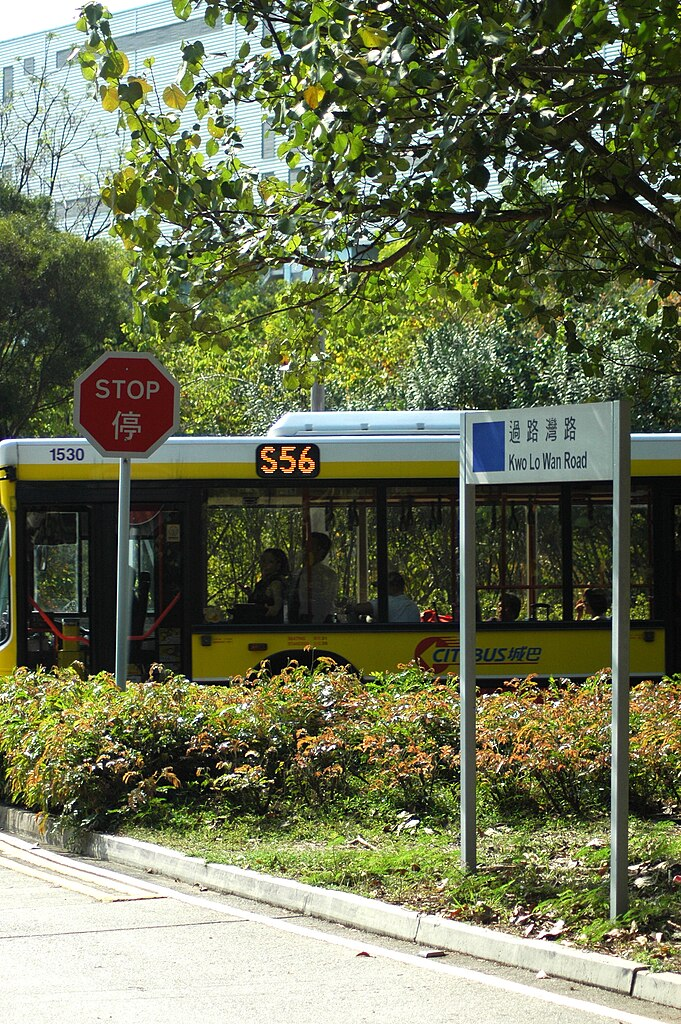Stop: (71, 352, 178, 458)
